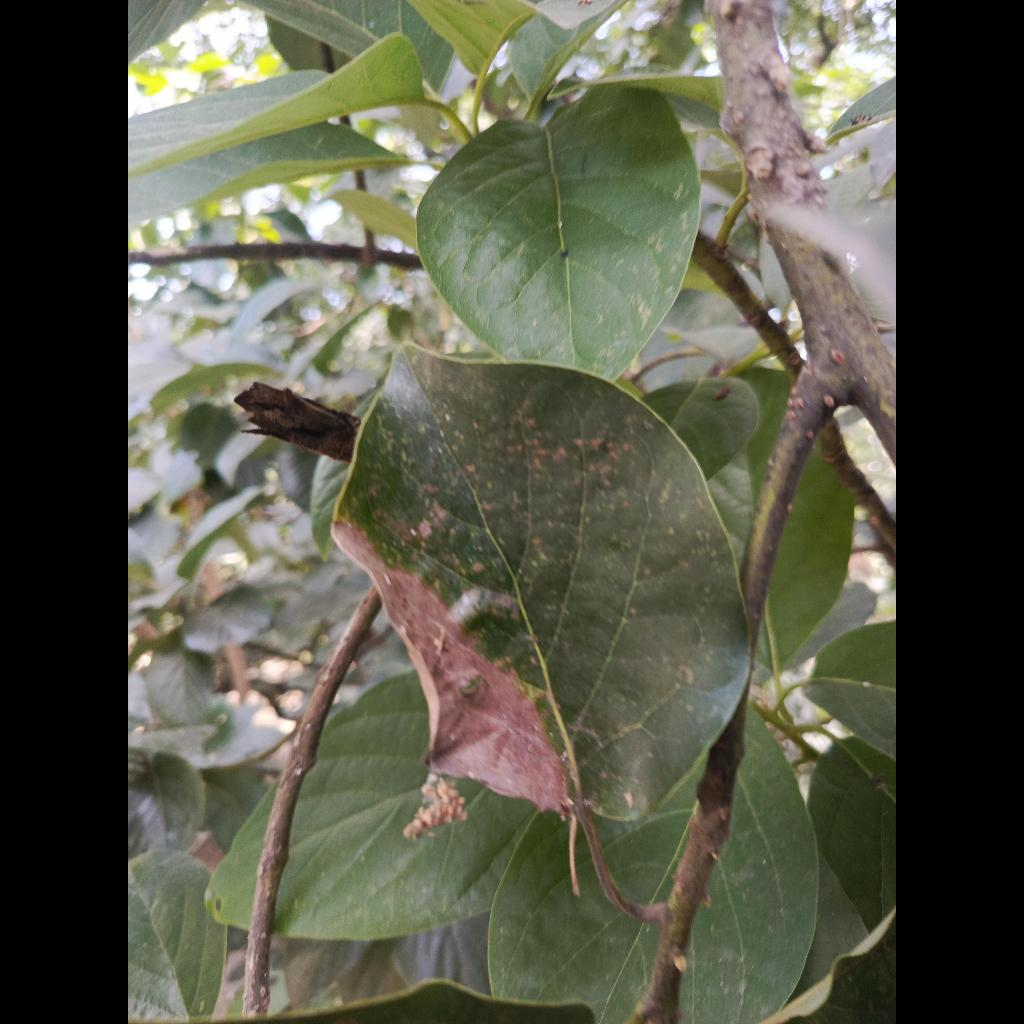antracnosis_hoja: (332, 347, 749, 819)
